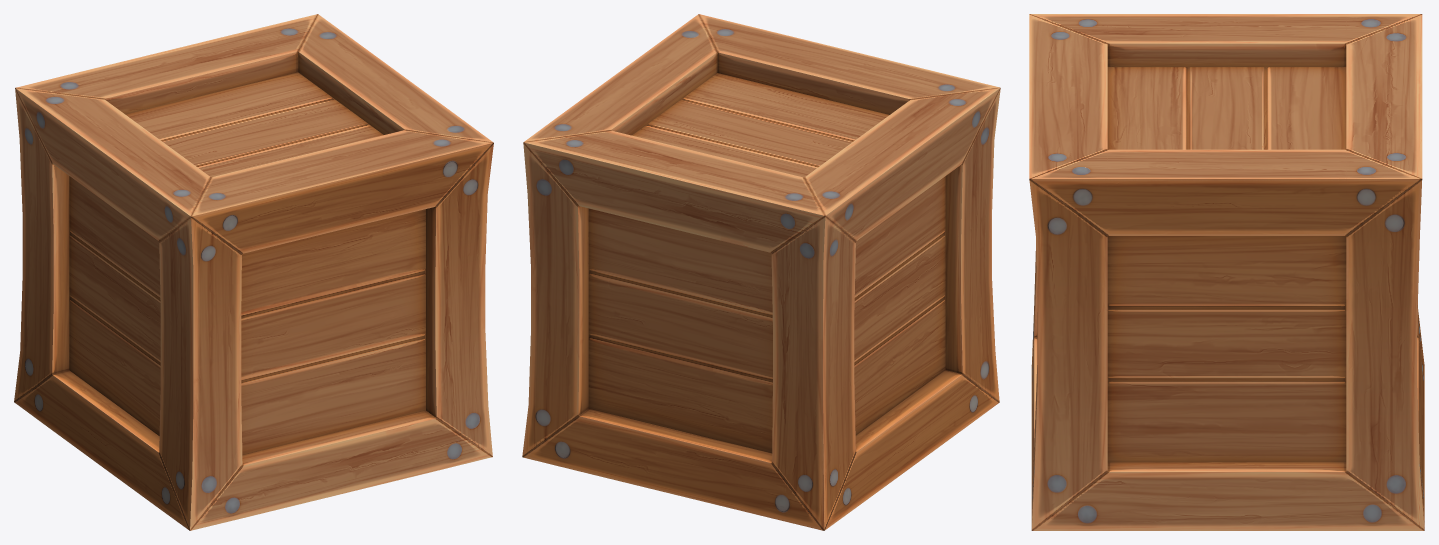
File: Crate01.FBX
The picture shows the model from 3 angles, left to right: view 1: azimuth 30°, elevation 25°; view 2: azimuth 150°, elevation 25°; view 3: azimuth 270°, elevation 25°; orthographic projection. The views are drawn at different scales.
Parts seen in each view (by area): view 1: Crate01; view 2: Crate01; view 3: Crate01.
Part boxes in pixels (x1,y1,x2,y2): Crate01: (14,14,493,530); Crate01: (522,14,1000,530); Crate01: (1029,14,1424,530).
Size of what is drawn, in the model's own units: 0.8095 by 0.8056 by 0.8195.
